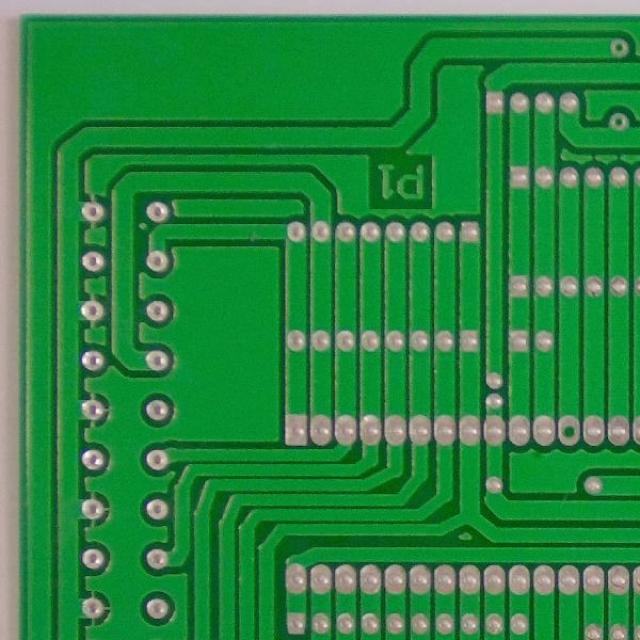missing_hole: (557, 414, 583, 444), (602, 110, 632, 131), (607, 36, 631, 59)
